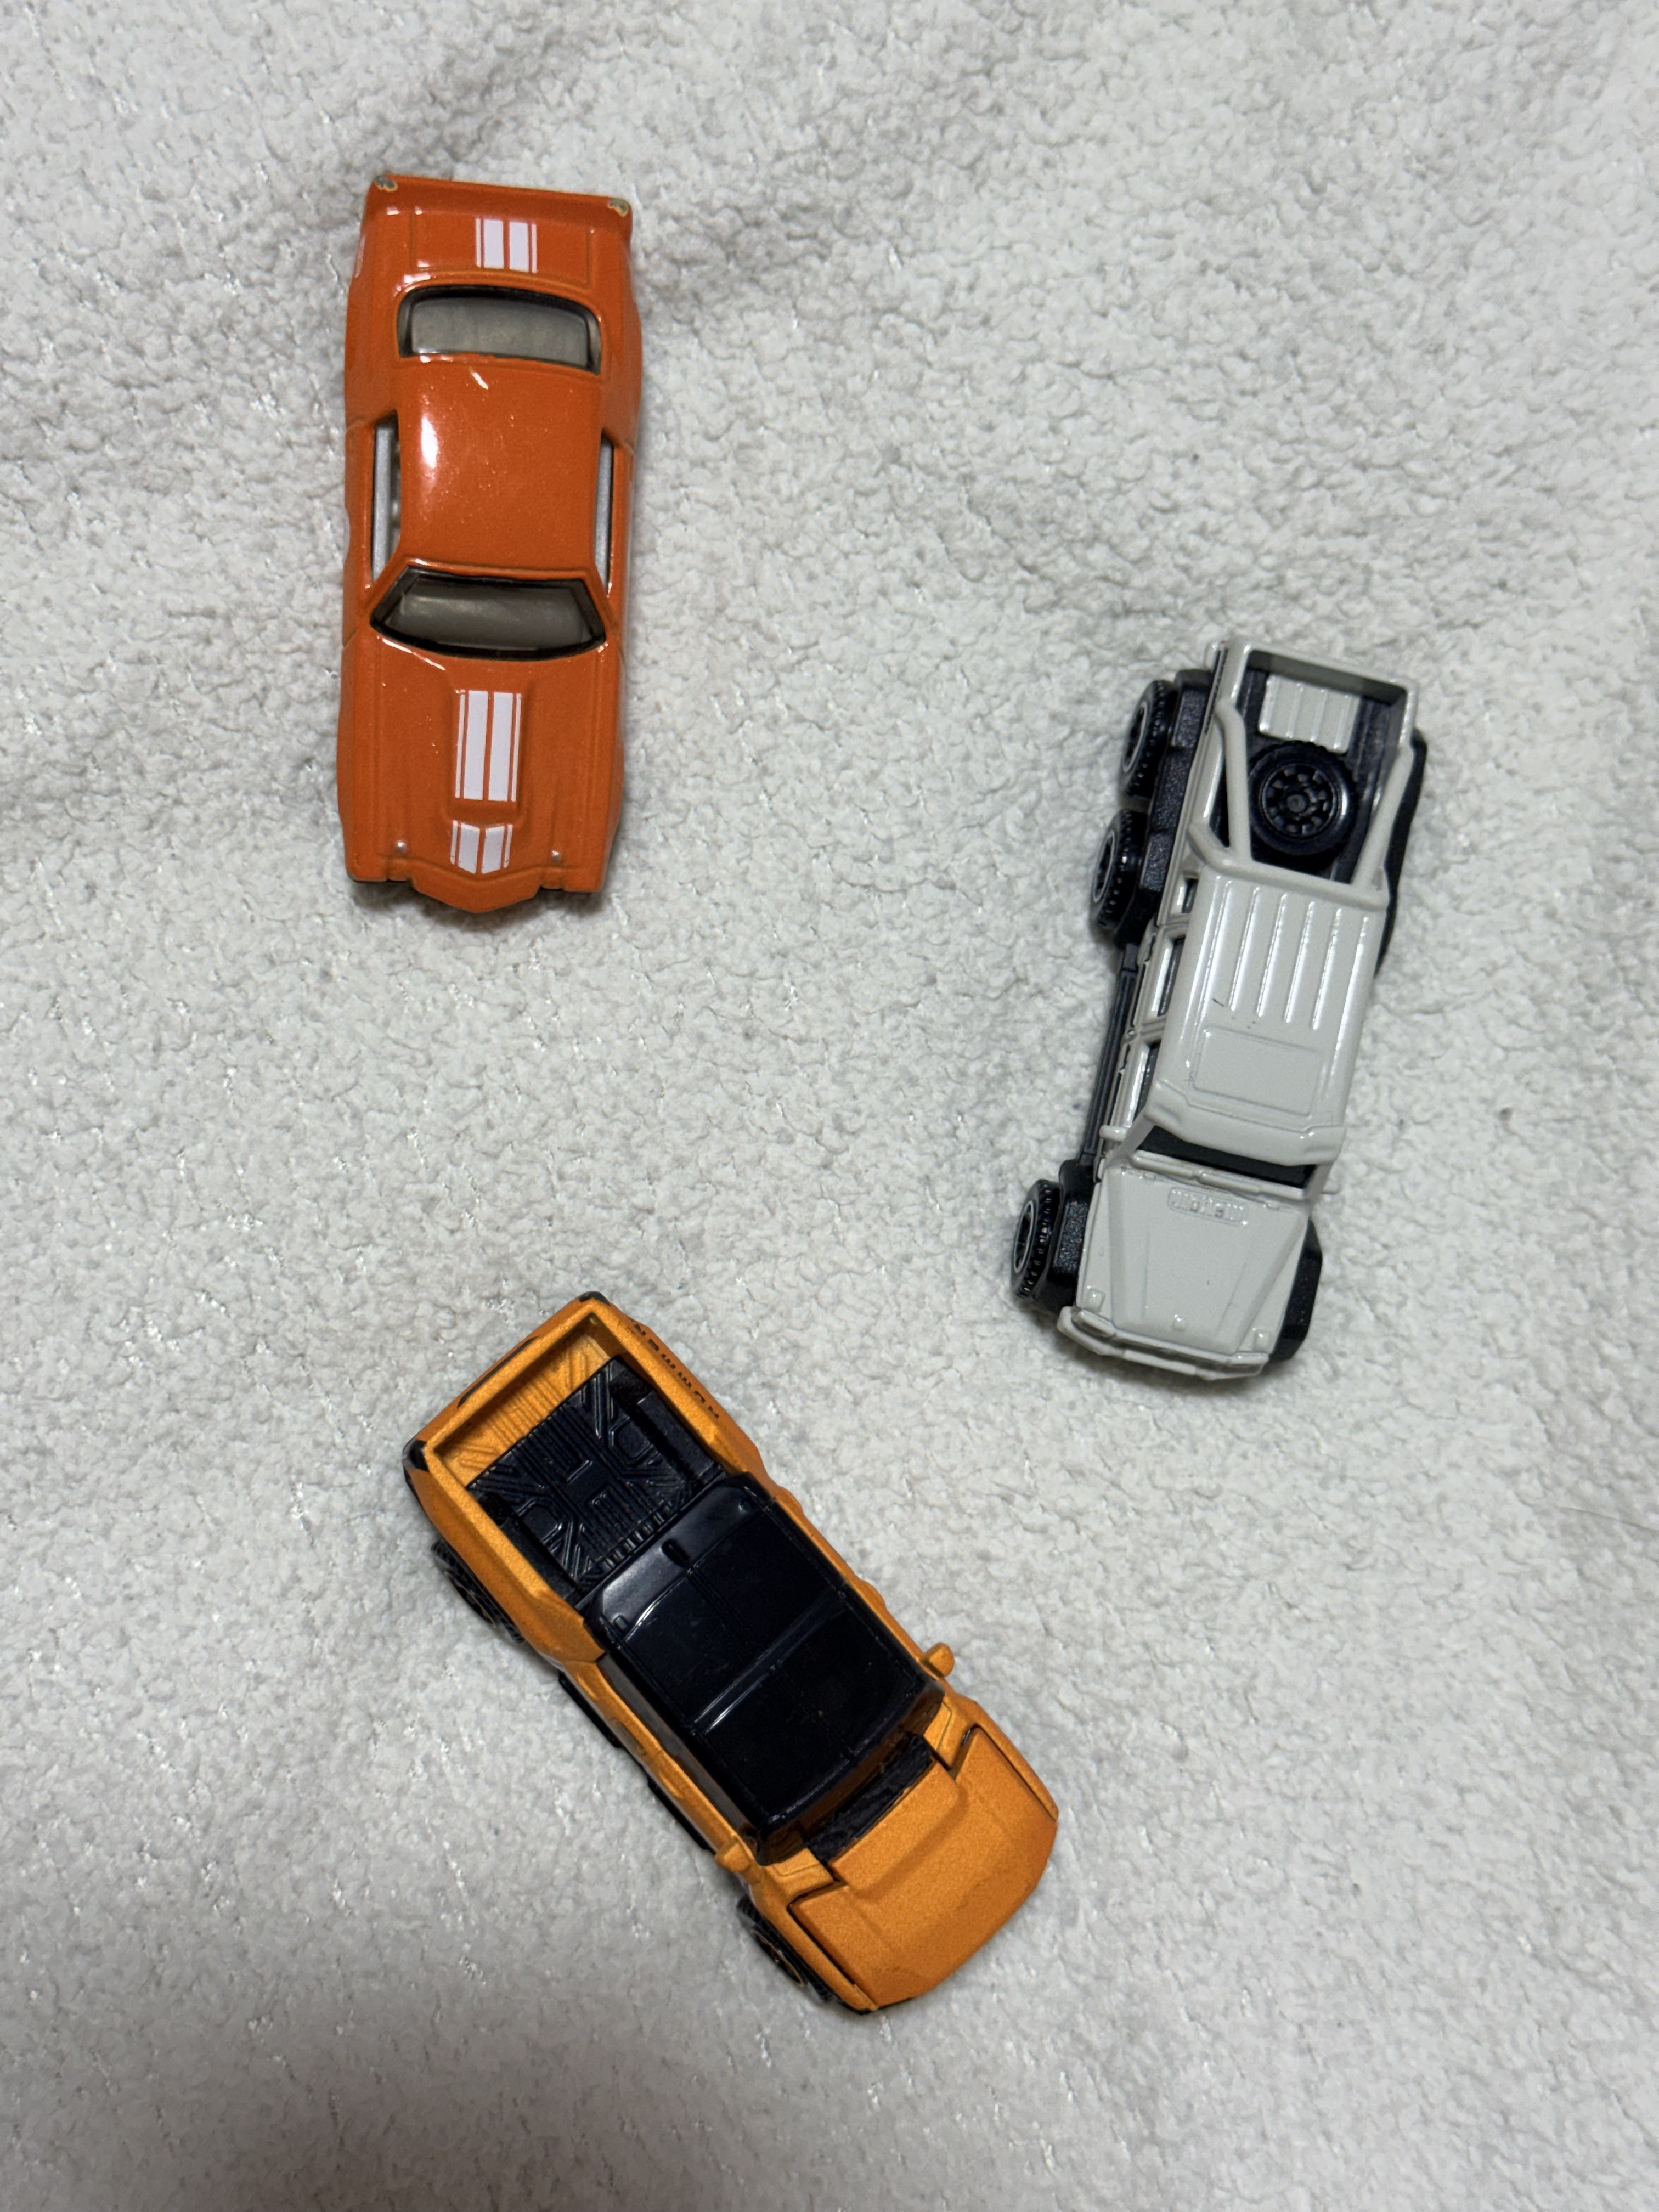camaro_rs: (336, 171, 641, 911)
gmc_hummer: (401, 1291, 1061, 2019)
mercedes_benz: (1012, 629, 1425, 1383)
